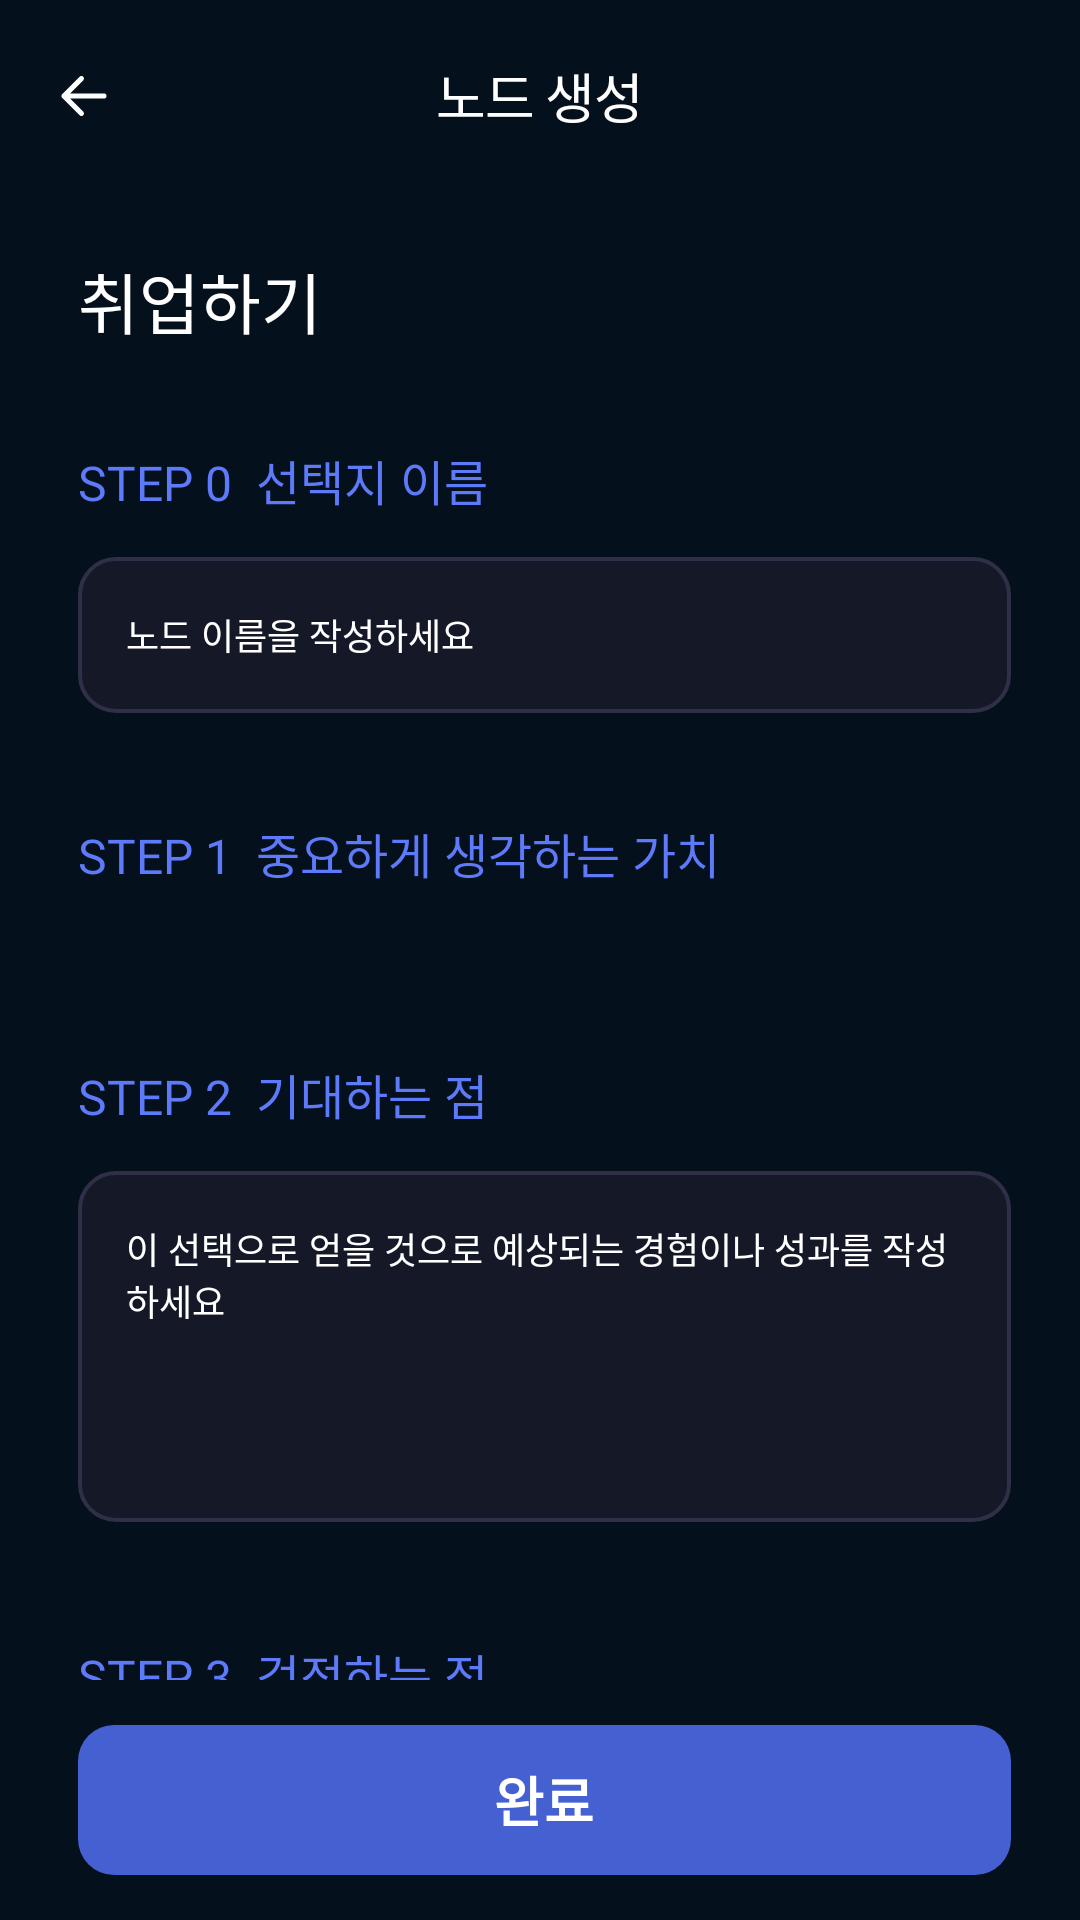

Icon click points for this 1080*1920 phone screenshot, format [x,y]:
뒤로가기: [84,96]
